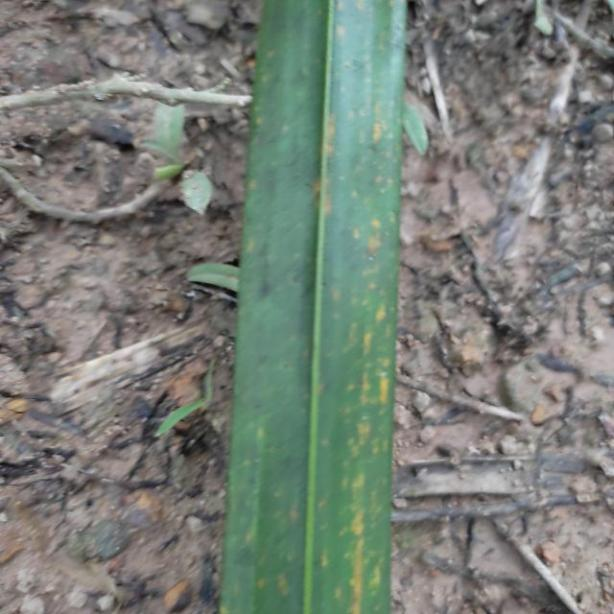nitrogen: (230, 0, 408, 614)
